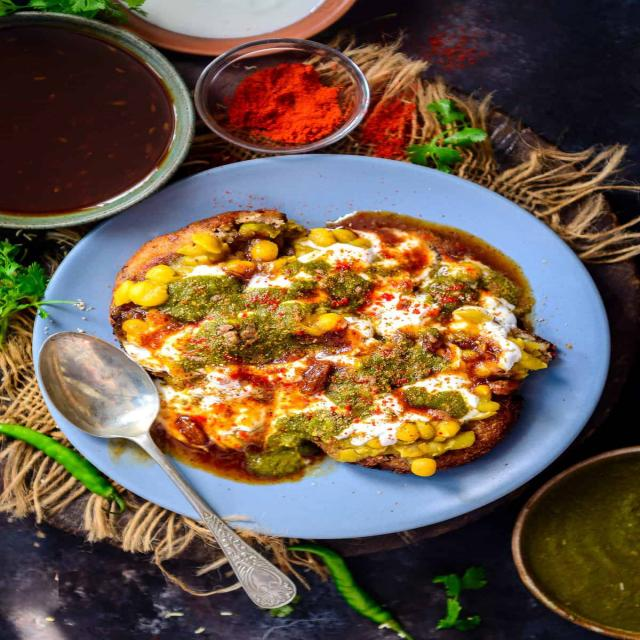Aloo Tikki: (126, 221, 511, 471)
